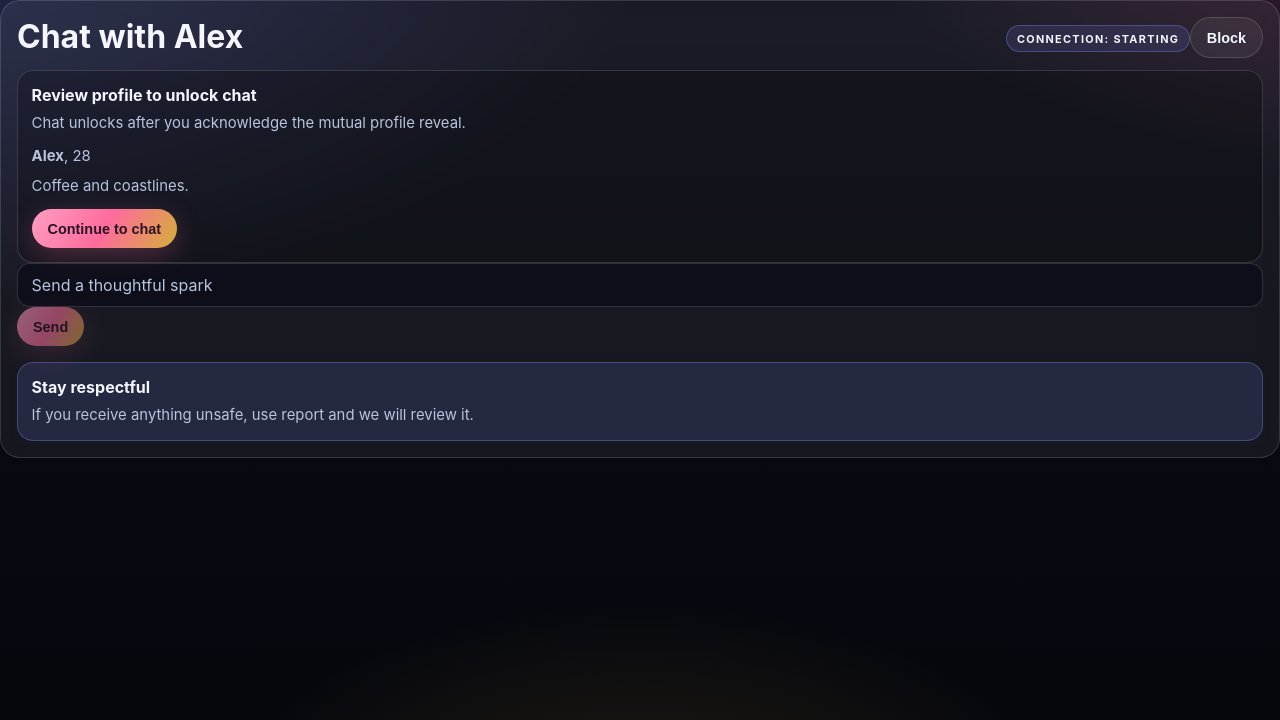
Test: Chat › keeps chat locked until reveal is acknowledged
The width and height of the screenshot is (1280, 720).
Check: the text "Review profile to unlock chat" is shown, box [32, 85, 257, 105]
Click the button "Continue to chat" at (104, 229), box [32, 209, 177, 248]
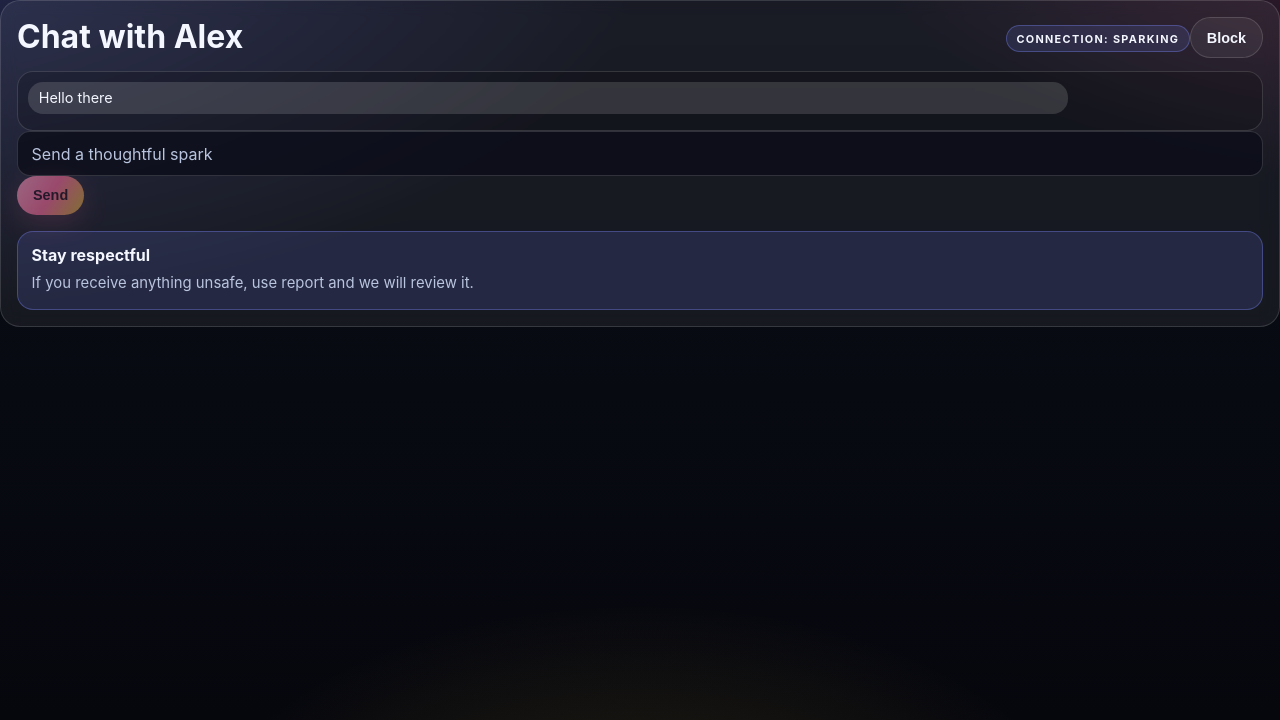
Check: the text "Hello there" is shown, box [28, 82, 1068, 114]
